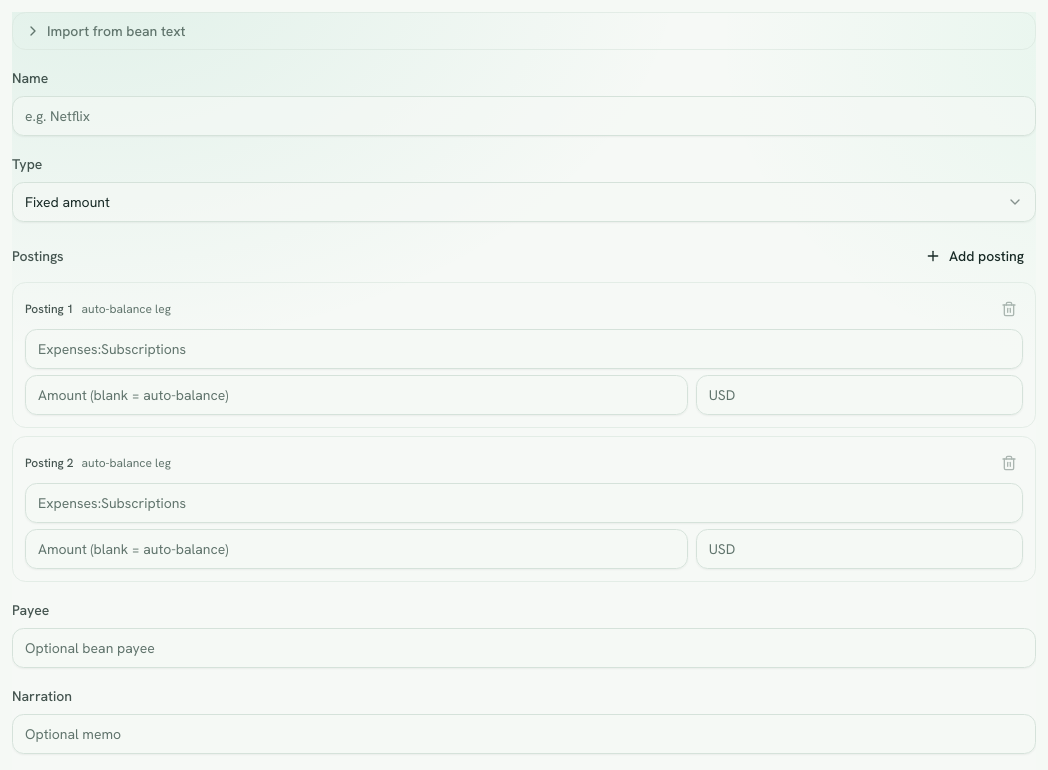
import surfaces structural warnings returned by the backend
The width and height of the screenshot is (1048, 770).
Click the button "Import from bean text": (116, 31) top-left (13, 13), bottom-right (1035, 49)
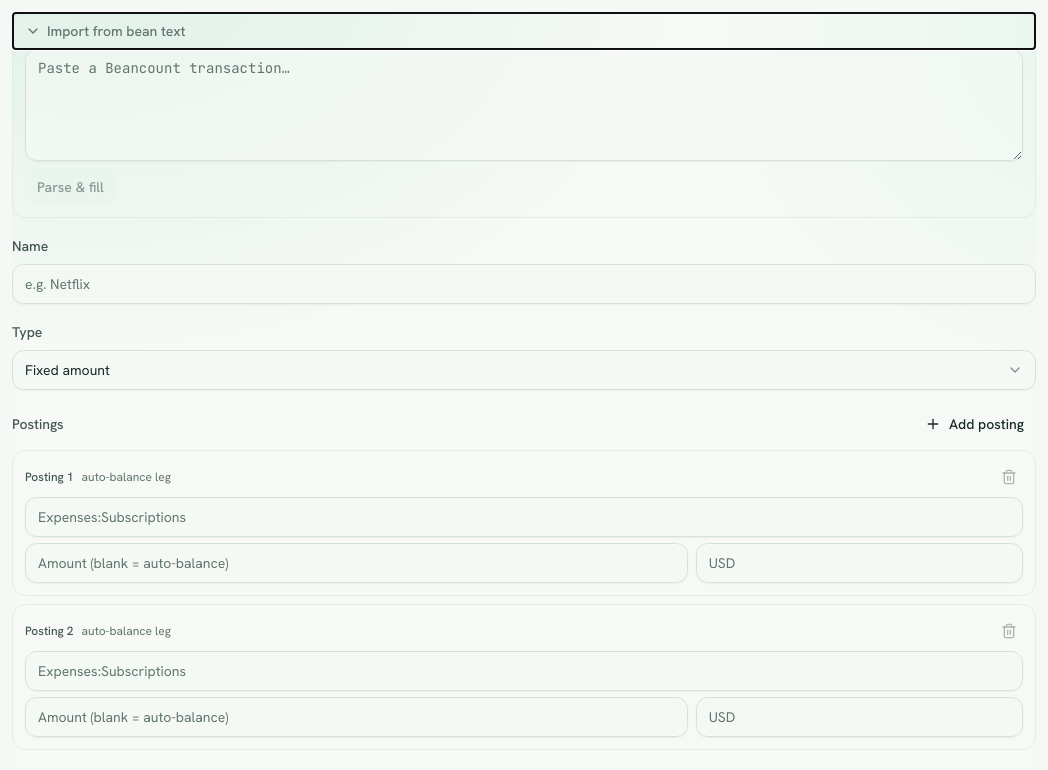
In the text box named "bean text": (524, 105) top-left (25, 49), bottom-right (1023, 161), type "x"
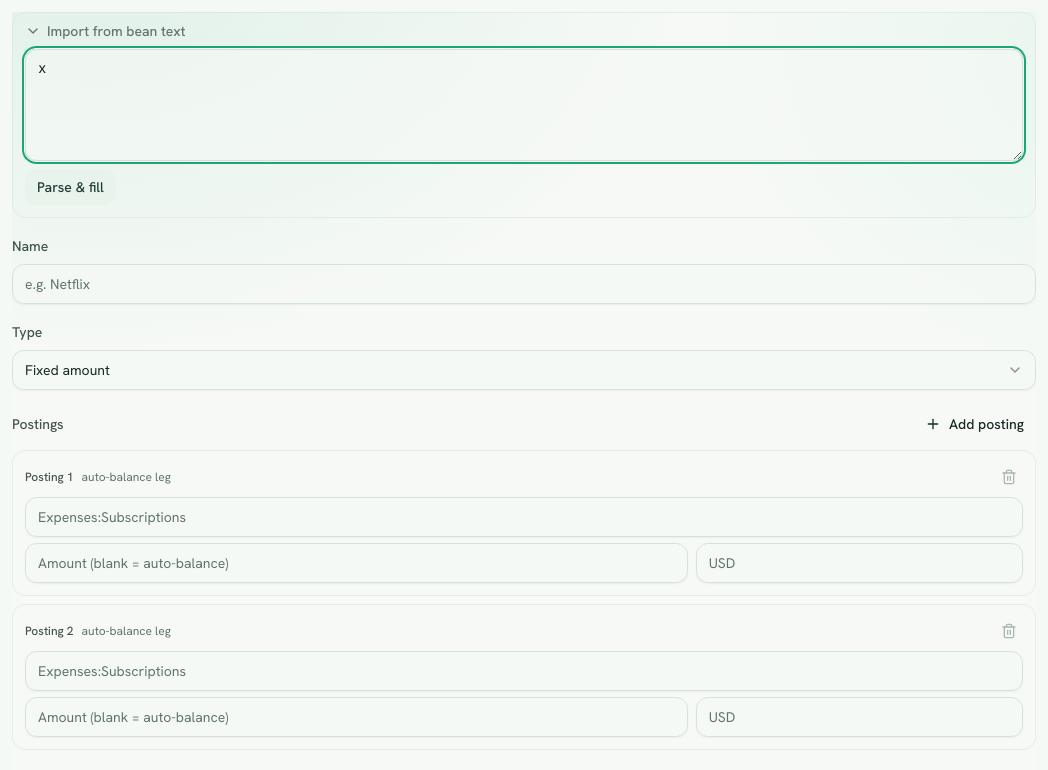
Click the button "Parse & fill": (70, 187) top-left (25, 169), bottom-right (116, 205)
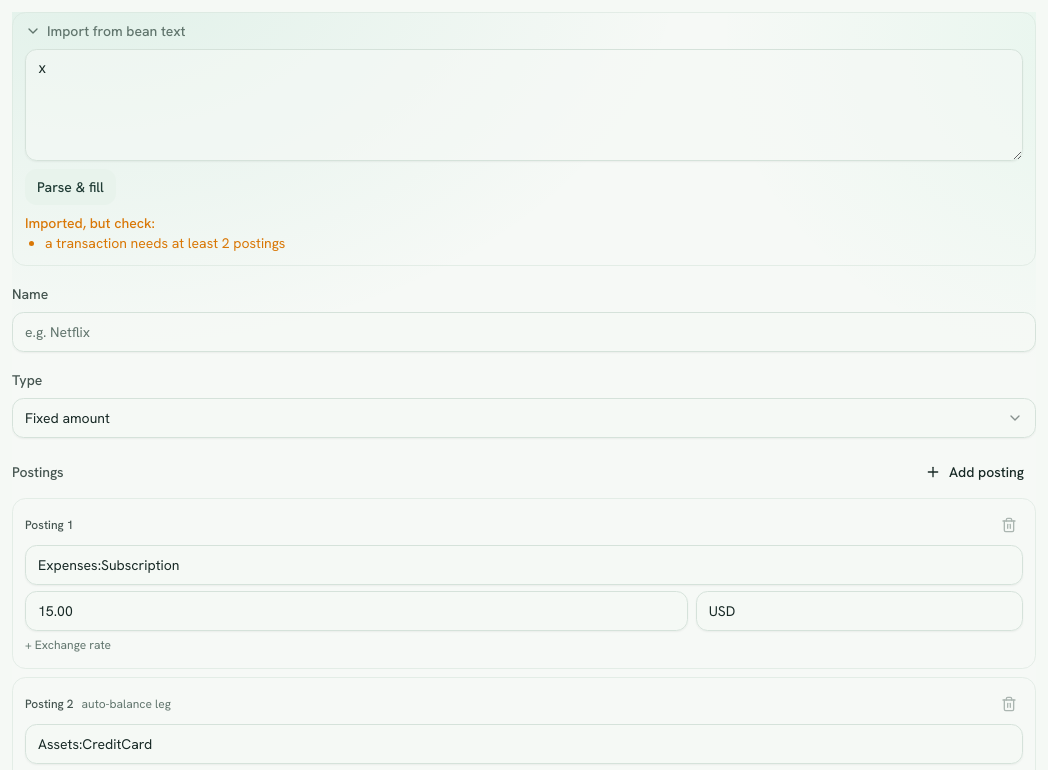
Expected: the list item "a transaction needs at least 2 postings" is shown, top-left (45, 234), bottom-right (285, 252)
